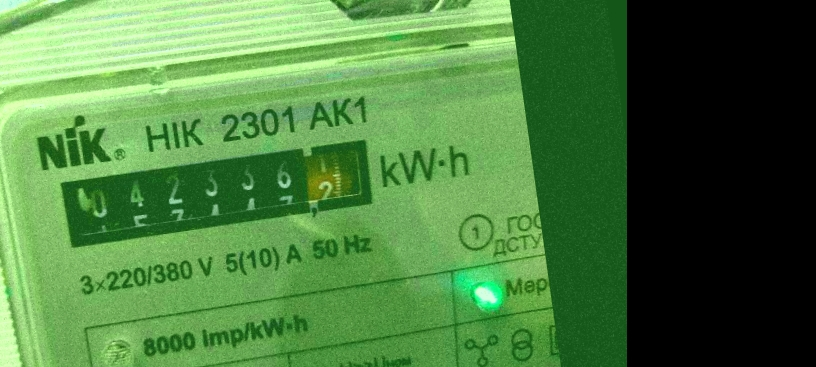0: (85, 185, 109, 220)
1: (312, 148, 328, 175)
2: (160, 170, 185, 206), (313, 178, 333, 201)
3: (196, 164, 219, 198), (235, 159, 256, 193)
4: (124, 175, 145, 209)
6: (270, 156, 294, 192)
screen: (44, 123, 389, 260)
